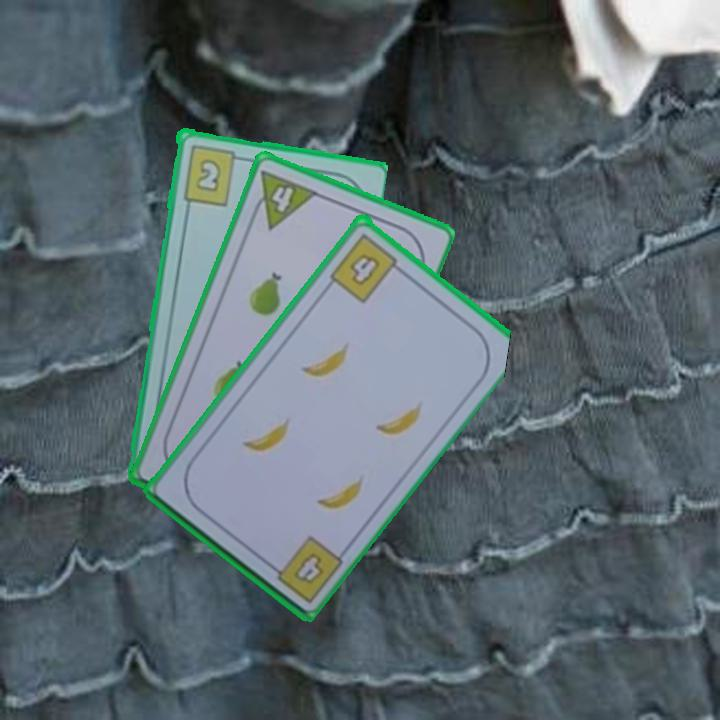2b: (179, 141, 247, 208)
4b: (326, 229, 407, 305), (289, 548, 327, 587)
4p: (245, 166, 320, 232)
